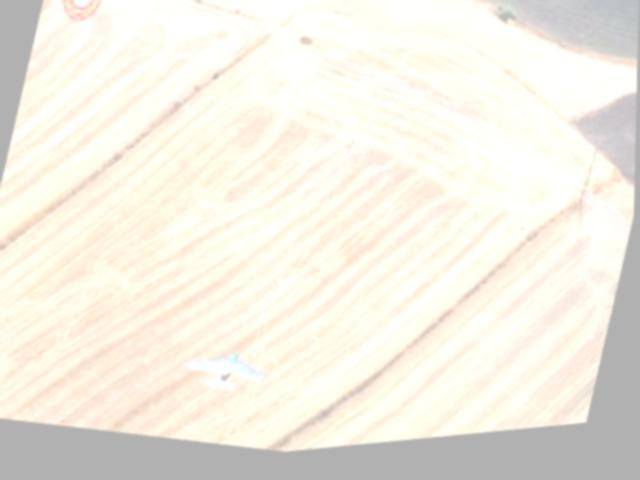uav: (183, 341, 276, 410)
